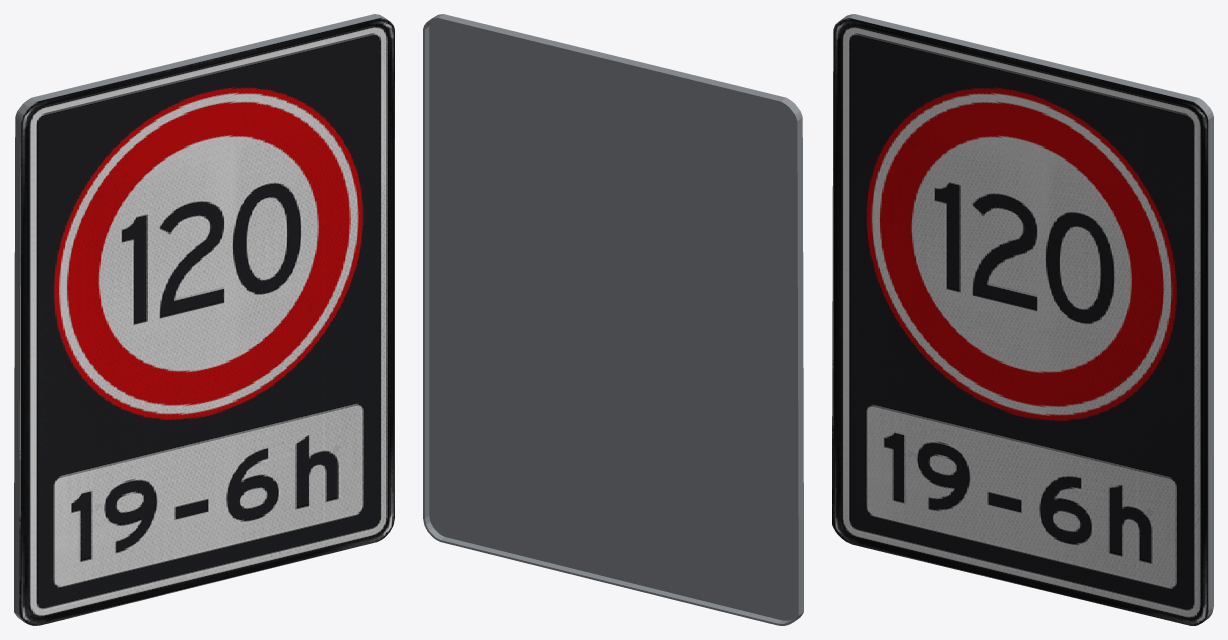
3 views of the same model, side by side, from view 1: azimuth 30°, elevation 25°; view 2: azimuth 150°, elevation 25°; view 3: azimuth 330°, elevation 25° (orthographic).
Parts seen in each view (by area): view 1: cat_e2316d420a187e75; view 2: cat_e2316d420a187e75; view 3: cat_e2316d420a187e75.
Boxes of the visible parts, left/top/right/bottom form: cat_e2316d420a187e75: left=14, top=14, right=394, bottom=625; cat_e2316d420a187e75: left=423, top=14, right=803, bottom=625; cat_e2316d420a187e75: left=832, top=14, right=1213, bottom=625.
Size of the model in its own units: 0.6 by 0.015 by 0.8012.
2 materials, 1 textured.
